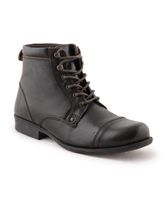shoes: (11, 42, 159, 155)
